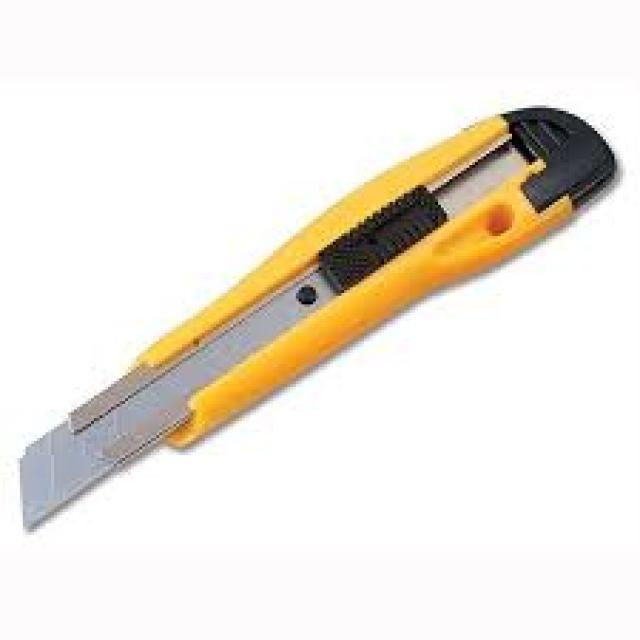cutter: (13, 98, 622, 544)
